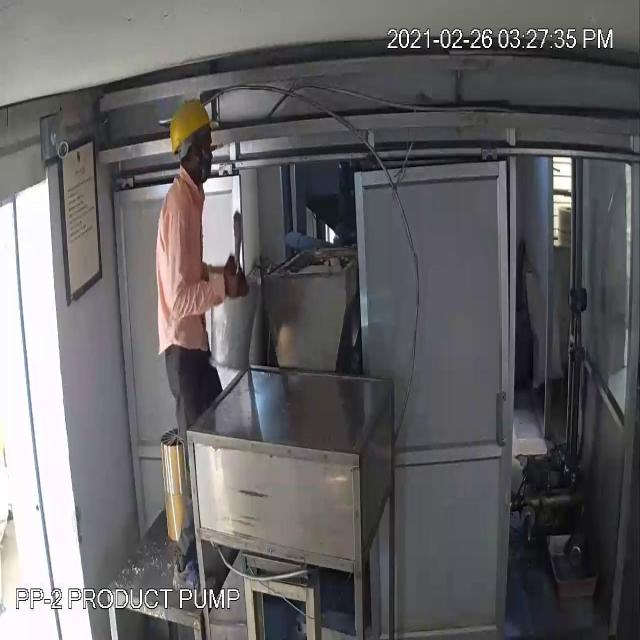helmet: (168, 100, 220, 158)
